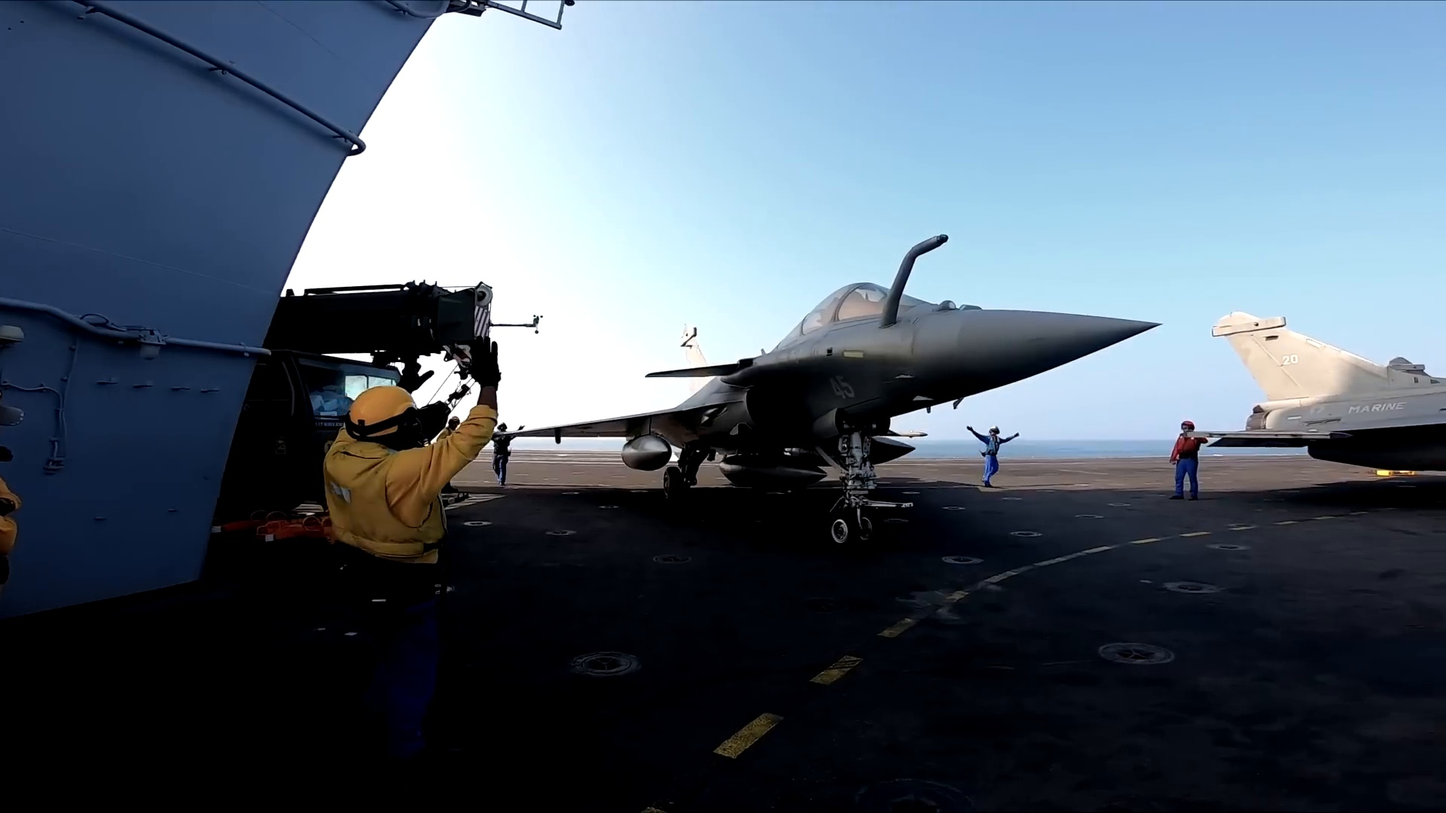Rafale: (488, 234, 1162, 537)
